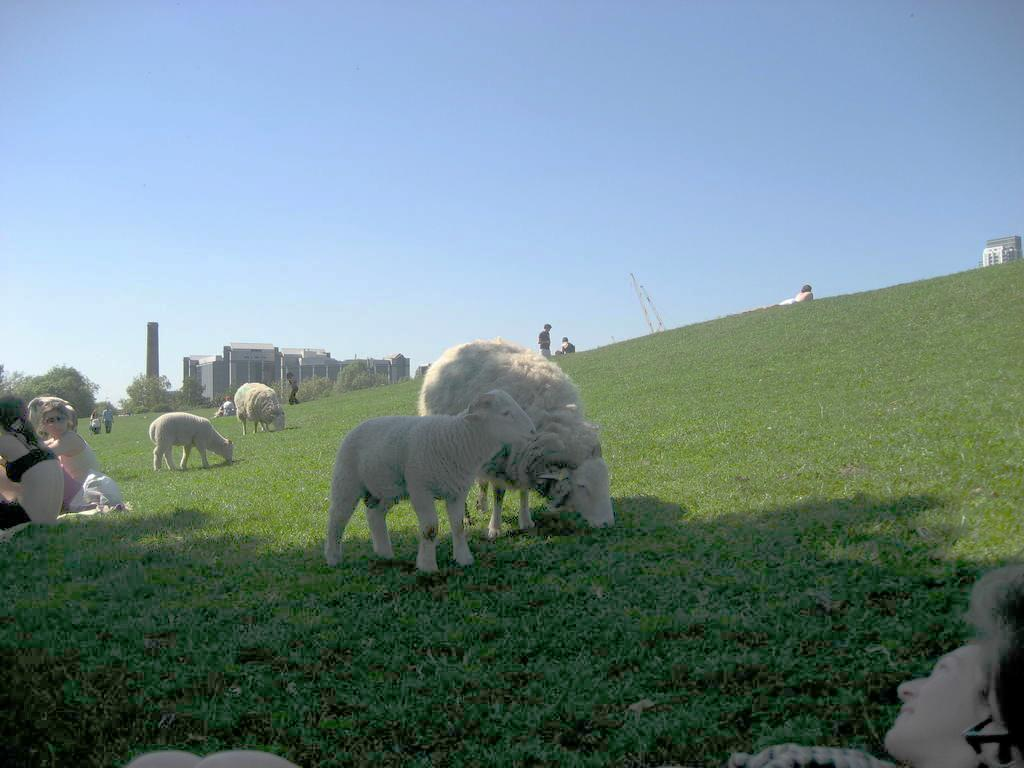Sheep: (414, 335, 616, 542), (324, 394, 540, 572), (153, 412, 234, 470), (234, 386, 286, 434)
